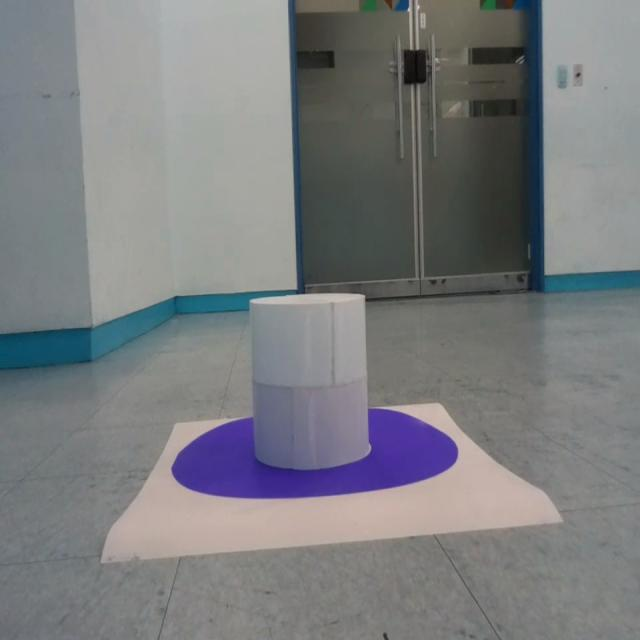cylinder: (250, 292, 370, 470)
